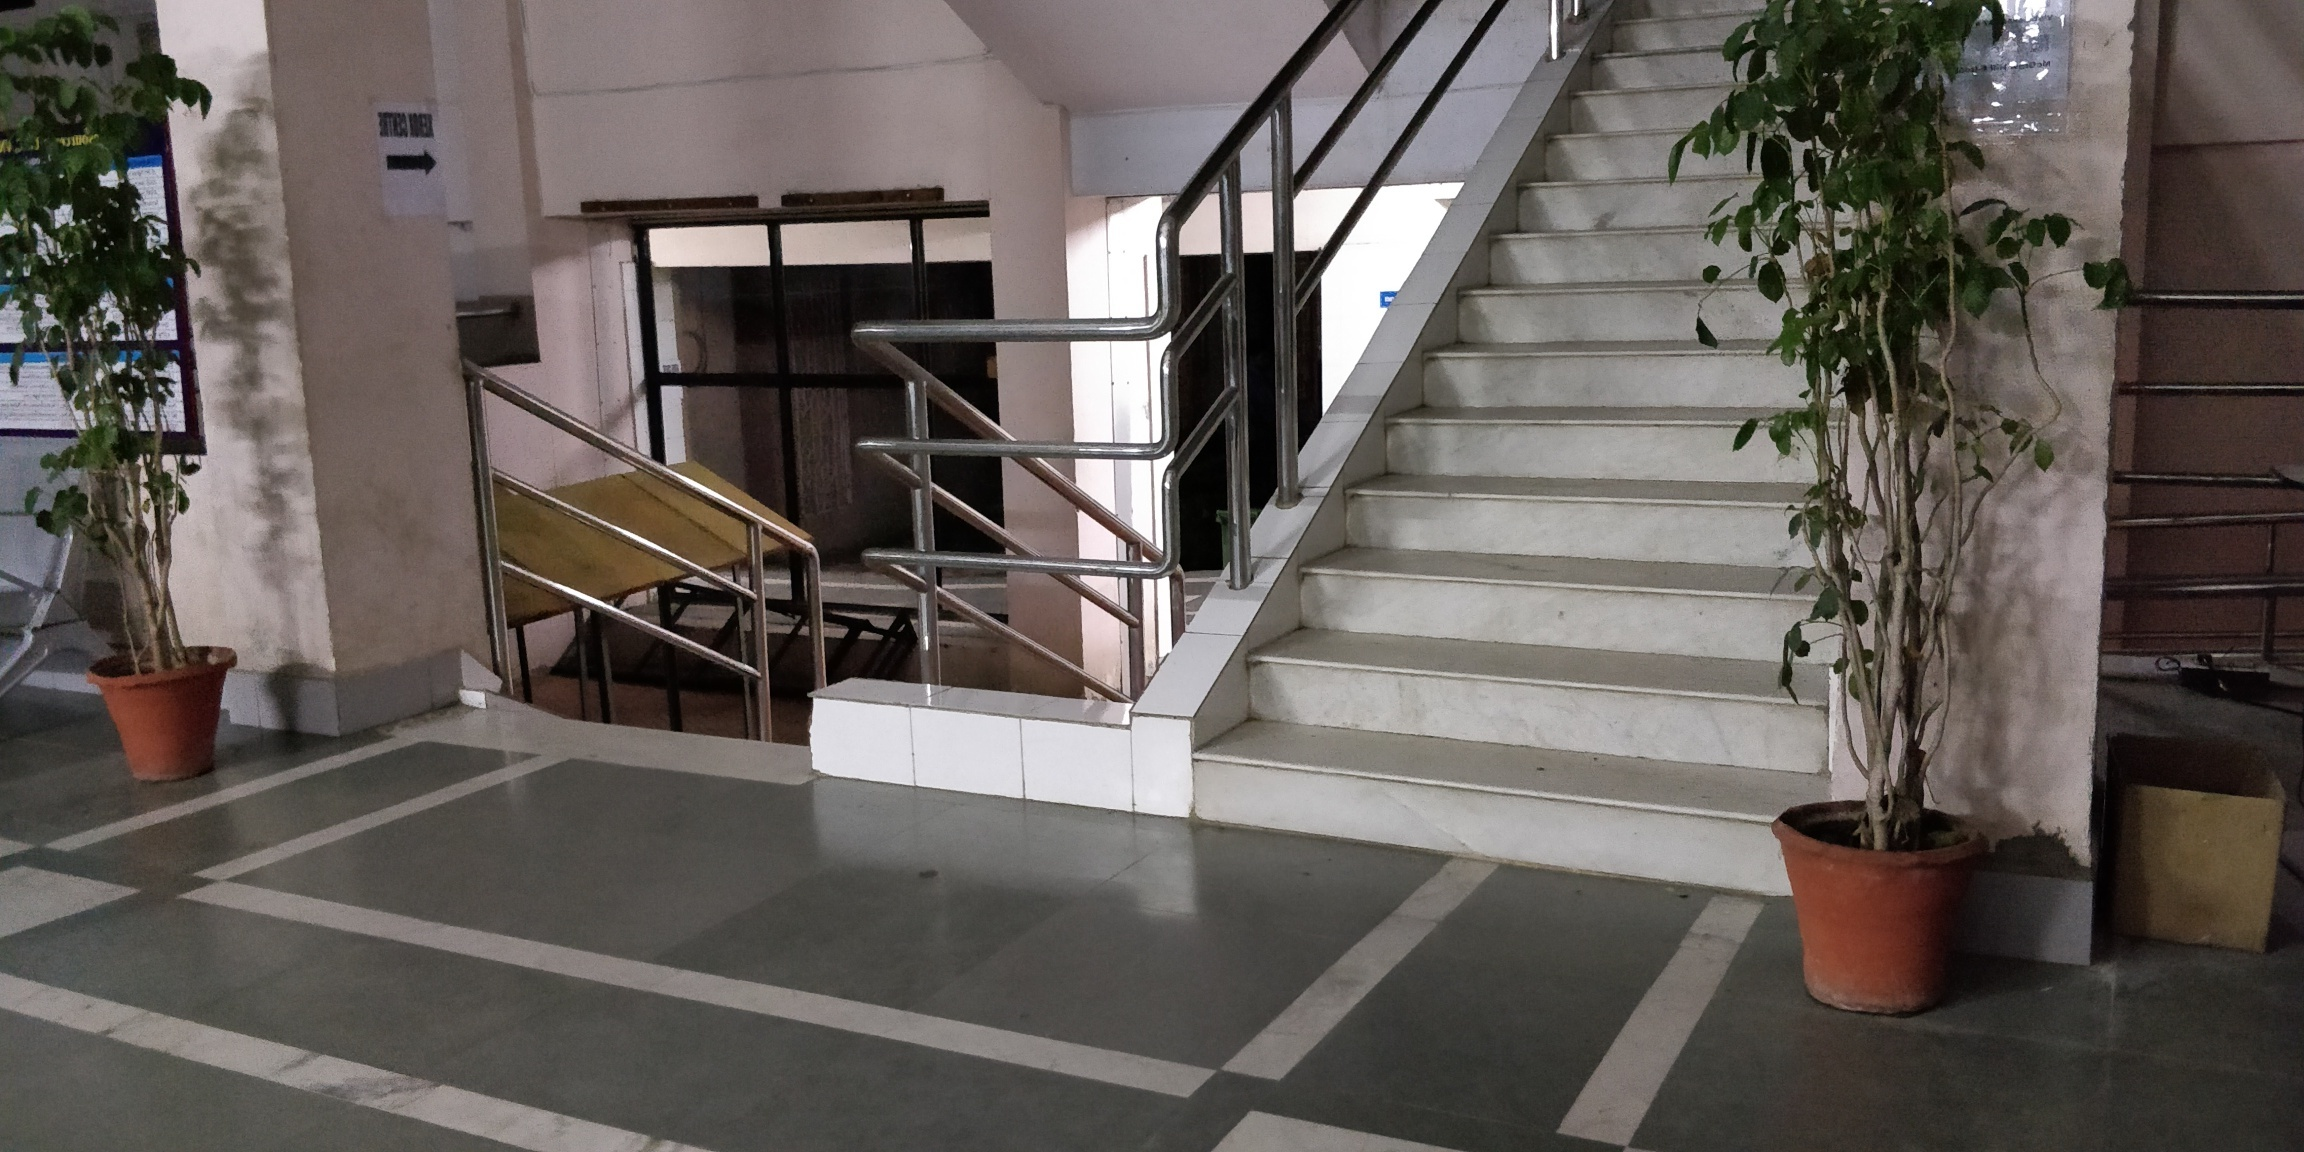stairs_up: (1189, 19, 1787, 893)
